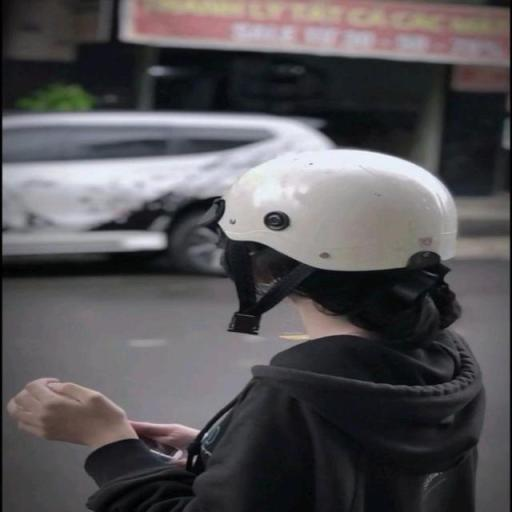with helmet: (211, 146, 461, 270)
